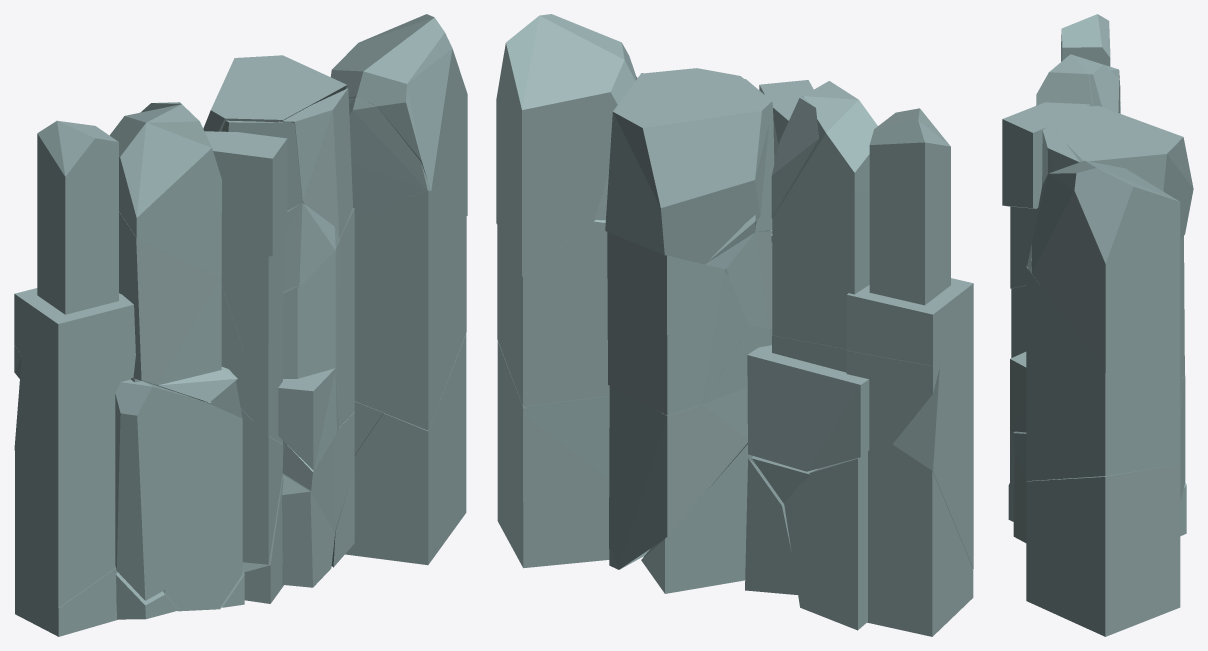
Rendered from potal_stone.FBX.
3 renders of one model, left to right at view 1: azimuth 30°, elevation 25°; view 2: azimuth 150°, elevation 25°; view 3: azimuth 270°, elevation 25°, orthographic. The views are drawn at different scales.
Parts seen in each view (by area): view 1: Object593, Object580, Object582, Object592, Object591, Object594, Object590, Object589, Object587, Object600, Object605, Object581 (+17 smaller); view 2: Object603, Object594, Object611, Object582, Object593, Object581, Object597, Object592, Object586, Object589, Object585, Object598 (+13 smaller); view 3: Object594, Object592, Object593, Object603, Object605, Object590, Object584, Object607, Object600, Object598, Object602, Object597 (+3 smaller).
Boxes of the visible parts, x1=… form: Object593: x1=354, y1=190, x2=466, y2=430; Object580: x1=14, y1=356, x2=121, y2=608; Object582: x1=14, y1=155, x2=135, y2=381; Object592: x1=345, y1=333, x2=466, y2=565; Object591: x1=115, y1=378, x2=207, y2=600; Object594: x1=330, y1=14, x2=467, y2=215; Object590: x1=109, y1=104, x2=221, y2=277; Object589: x1=119, y1=211, x2=237, y2=402; Object587: x1=163, y1=381, x2=242, y2=611; Object600: x1=278, y1=240, x2=339, y2=470; Object605: x1=204, y1=131, x2=287, y2=270; Object581: x1=15, y1=452, x2=117, y2=636; Object603: x1=605, y1=73, x2=771, y2=264; Object594: x1=496, y1=14, x2=636, y2=276; Object611: x1=607, y1=232, x2=750, y2=415; Object582: x1=846, y1=163, x2=973, y2=366; Object593: x1=497, y1=172, x2=609, y2=406; Object581: x1=867, y1=444, x2=973, y2=636; Object597: x1=609, y1=386, x2=747, y2=569; Object592: x1=497, y1=341, x2=643, y2=568; Object586: x1=747, y1=335, x2=869, y2=471; Object589: x1=772, y1=191, x2=869, y2=348; Object585: x1=784, y1=451, x2=867, y2=630; Object598: x1=641, y1=443, x2=756, y2=593; Object594: x1=1031, y1=160, x2=1180, y2=372; Object592: x1=1026, y1=464, x2=1180, y2=636; Object593: x1=1026, y1=266, x2=1180, y2=480; Object603: x1=1048, y1=106, x2=1193, y2=239; Object605: x1=1002, y1=102, x2=1089, y2=208; Object590: x1=1036, y1=54, x2=1120, y2=113; Object584: x1=1061, y1=14, x2=1110, y2=66; Object607: x1=1010, y1=206, x2=1037, y2=288; Object600: x1=1010, y1=351, x2=1026, y2=432; Object598: x1=1013, y1=453, x2=1186, y2=542; Object602: x1=1042, y1=126, x2=1082, y2=185; Object597: x1=1013, y1=375, x2=1185, y2=500.
Bounding box in the file's own units: 23.01 × 25.29 × 9.63.
